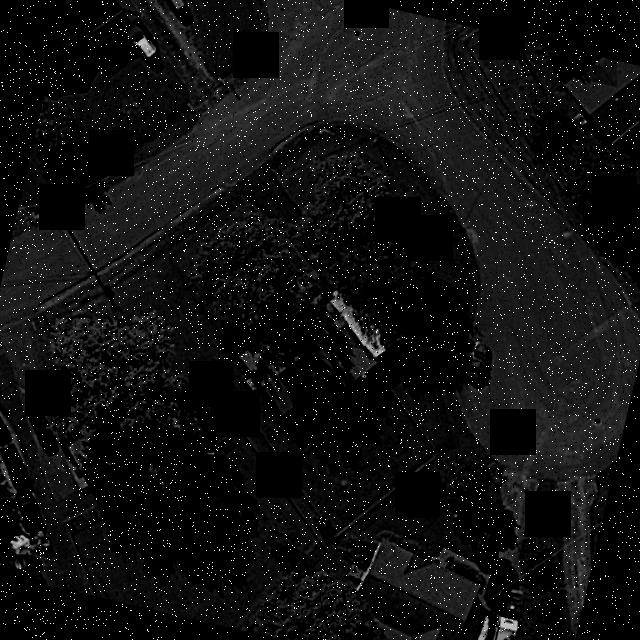Driveway: (301, 232, 336, 295), (249, 181, 301, 222)
Extra Driveway: (236, 163, 271, 195)
Extra Lawn: (155, 186, 240, 254), (269, 129, 319, 170)
House: (240, 280, 401, 416)
